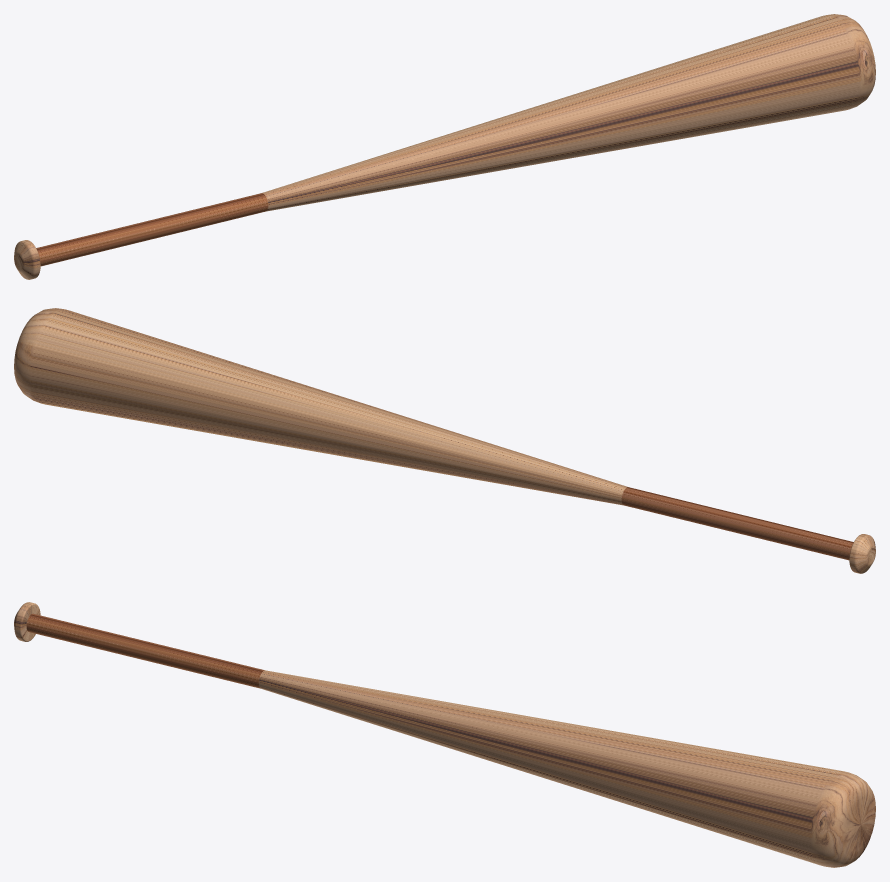
The model's file is bat.fbx.
3 renders of one model, top to bottom at view 1: azimuth 30°, elevation 25°; view 2: azimuth 150°, elevation 25°; view 3: azimuth 330°, elevation 25°, orthographic.
Visible parts, largest first — view 1: Sphere; view 2: Sphere; view 3: Sphere.
Part boxes in pixels (box(x1,y1,x2,y2)): Sphere: box(14, 14, 875, 279); Sphere: box(14, 308, 875, 573); Sphere: box(14, 602, 875, 867).
Size of the model in its own units: 1992 by 200 by 200.
Materials: 2 (2 with a texture image).
